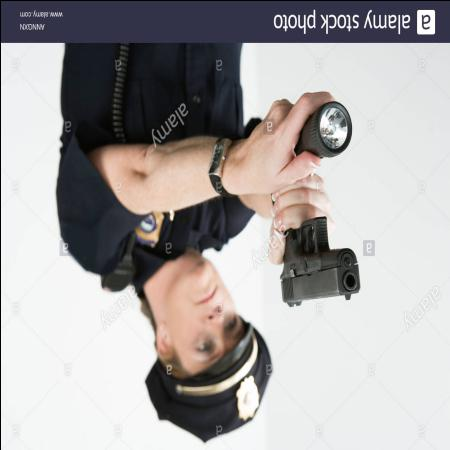Pistol: (277, 214, 360, 307)
